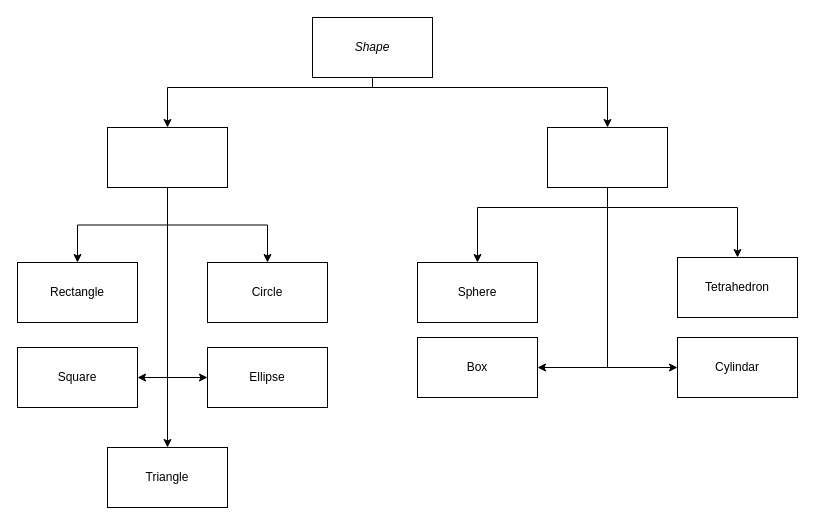
This 815x525 diagram has some shape labels left out. Here are the shapes that lost their labels. From the top down, the box of each, then its label:
(106, 126, 228, 188): 2dimensional
(546, 126, 668, 188): 3dimensional
